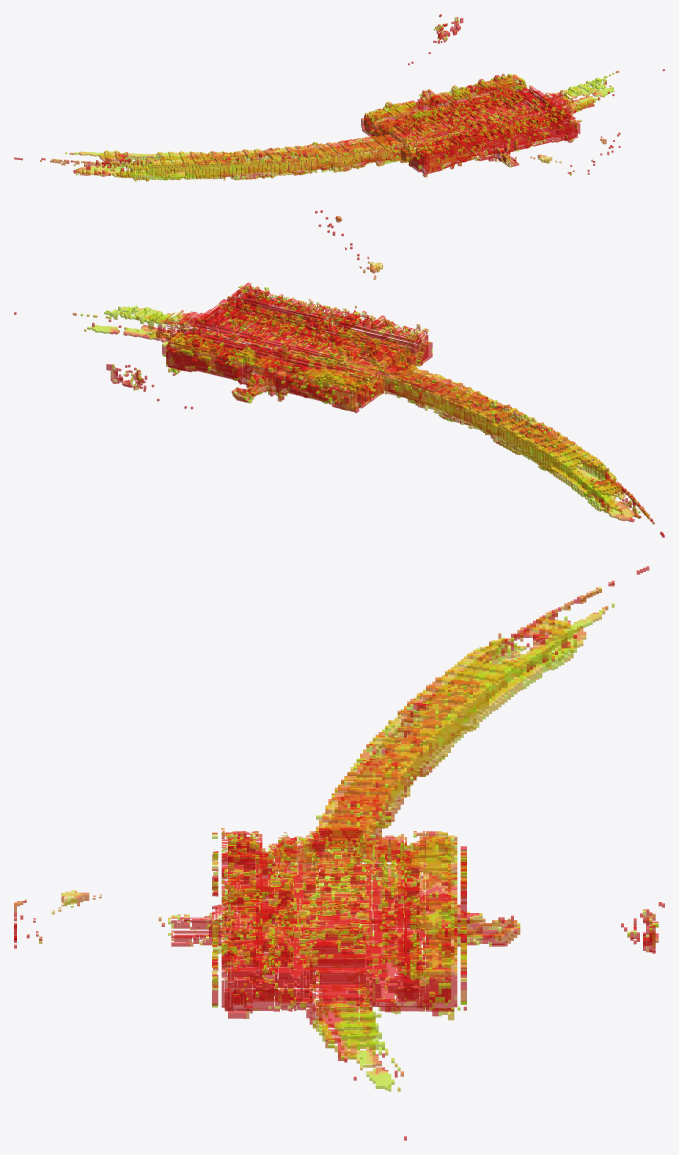
File: subway_small.glb
The picture shows the model from 3 angles, top to bottom: view 1: azimuth 30°, elevation 25°; view 2: azimuth 150°, elevation 25°; view 3: azimuth 270°, elevation 25°; orthographic projection. The views are drawn at different scales.
Parts seen in each view (by area): view 1: chunk:4, chunk:2, chunk:3, chunk:0, chunk:1, chunk:6; view 2: chunk:4, chunk:3, chunk:2, chunk:0, chunk:1, chunk:6; view 3: chunk:4, chunk:2, chunk:3, chunk:0, chunk:1, chunk:6.
Part boxes in pixels (x1,y1,x2,y2): chunk:4: (372, 80, 602, 177); chunk:2: (205, 123, 421, 180); chunk:3: (364, 14, 527, 133); chunk:0: (14, 150, 185, 181); chunk:1: (170, 117, 369, 179); chunk:6: (565, 69, 664, 113); chunk:4: (159, 217, 428, 406); chunk:3: (106, 335, 363, 412); chunk:2: (368, 341, 570, 452); chunk:0: (562, 449, 664, 537); chunk:1: (357, 385, 583, 481); chunk:6: (14, 305, 175, 340); chunk:4: (23, 827, 425, 1042); chunk:2: (228, 689, 425, 870); chunk:3: (426, 831, 664, 1020); chunk:0: (445, 566, 649, 699); chunk:1: (426, 669, 507, 841); chunk:6: (319, 1012, 406, 1140).
Bounding box in the file's own units: 125 × 10.8 × 62.1.
8 materials, 7 textured.
